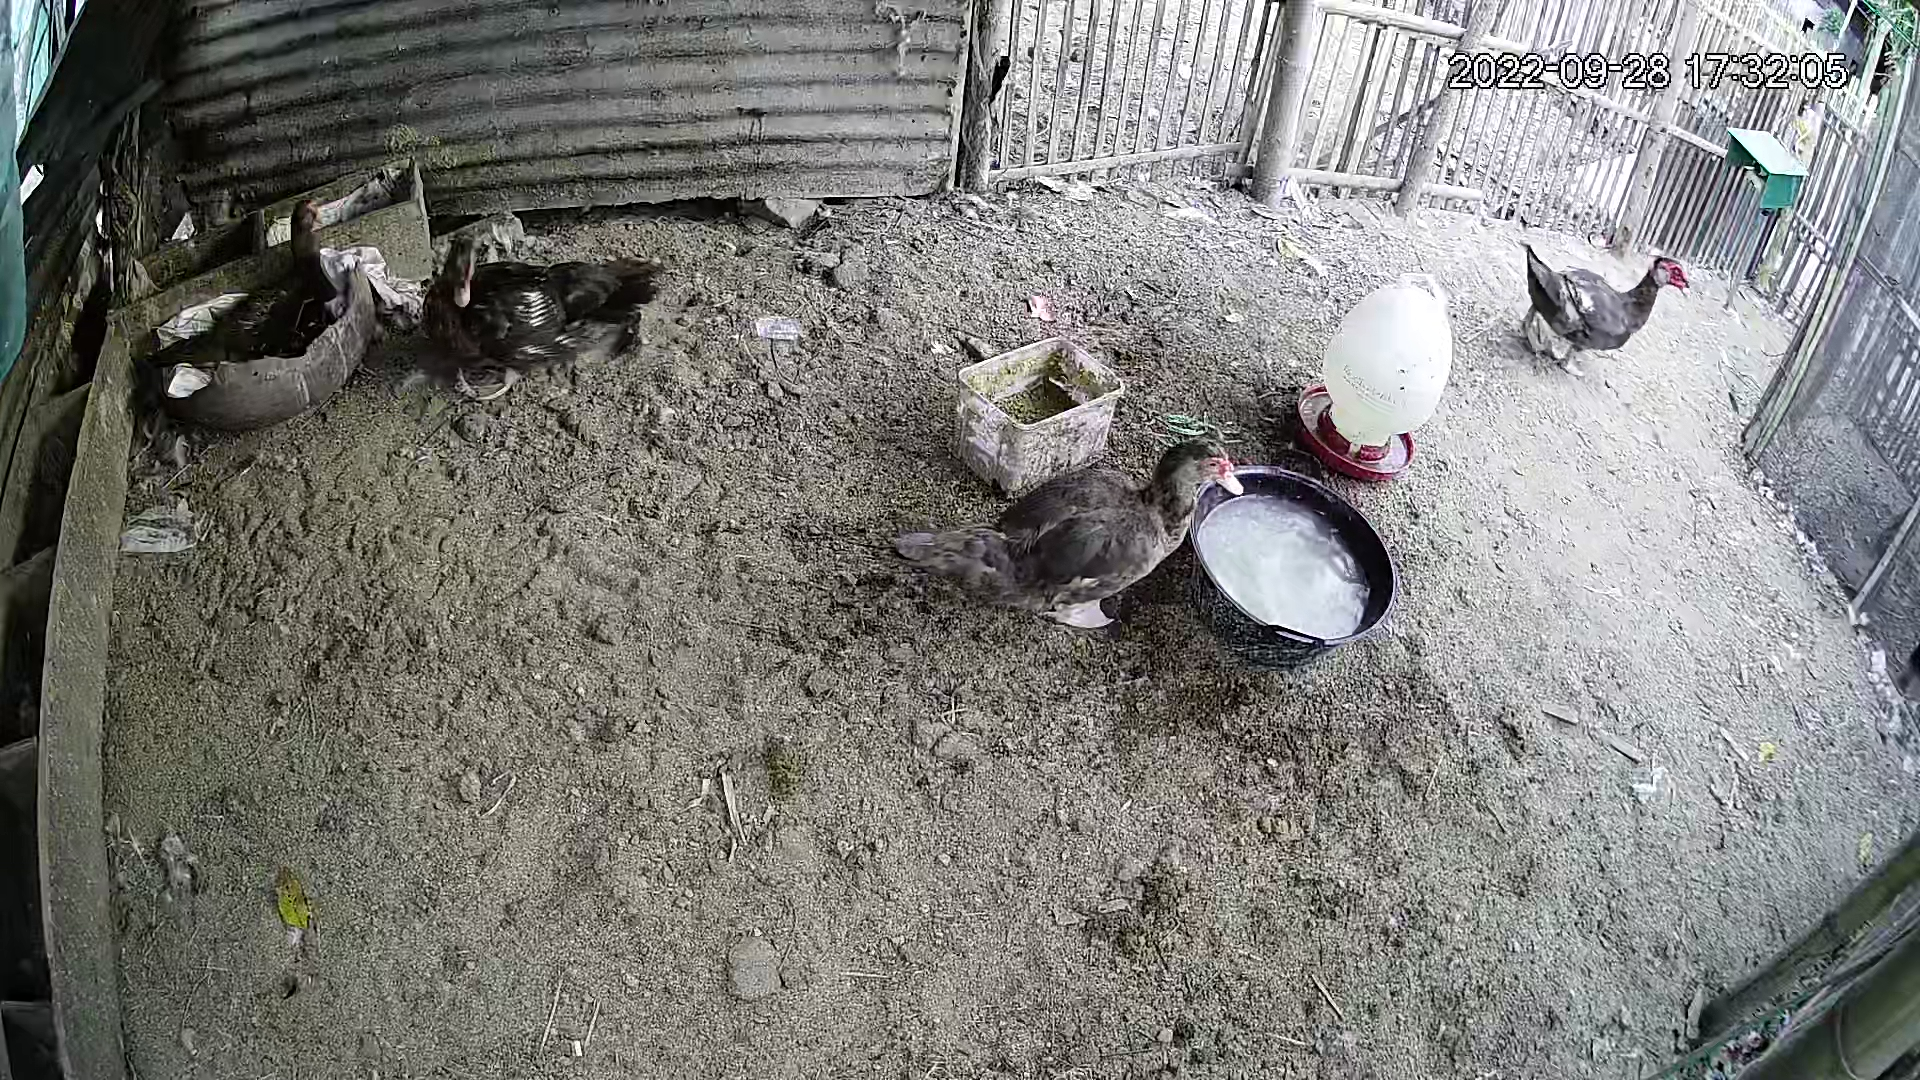Mengeram: (121, 169, 406, 444)
